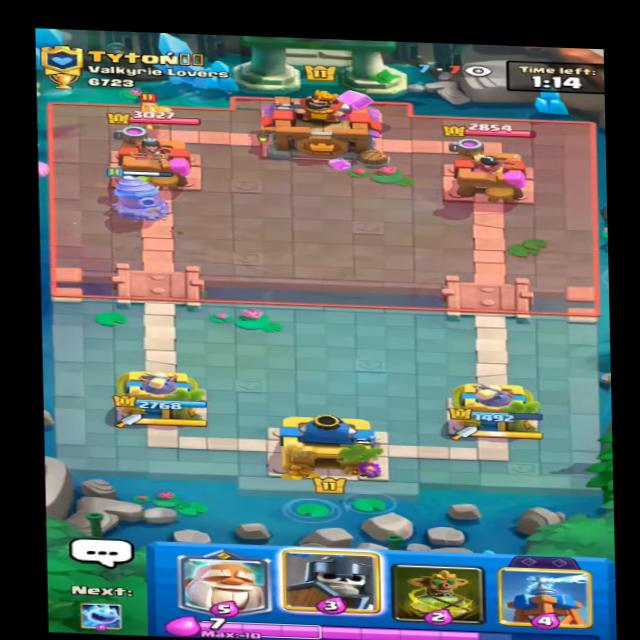wizard: (117, 88, 183, 130)
